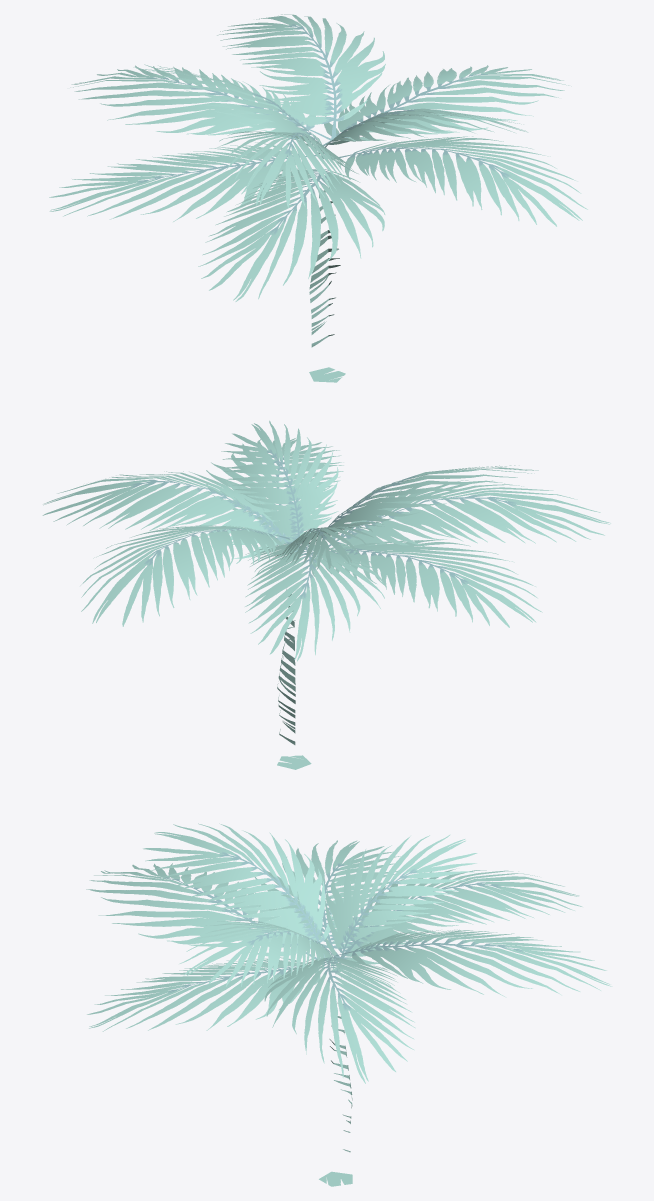
File: M.coconut_tree-v3-2.fbx
3 renders of one model, top to bottom at view 1: azimuth 30°, elevation 25°; view 2: azimuth 150°, elevation 25°; view 3: azimuth 270°, elevation 25°, orthographic. The views are drawn at different scales.
Parts seen in each view (by area): view 1: leaf2.029; view 2: leaf2.029; view 3: leaf2.029.
Part boxes in pixels (bbox=[...]): leaf2.029: bbox=[49, 14, 587, 382]; leaf2.029: bbox=[42, 420, 610, 769]; leaf2.029: bbox=[86, 823, 612, 1186].
Size of the model in its own units: 485 by 263 by 512.
